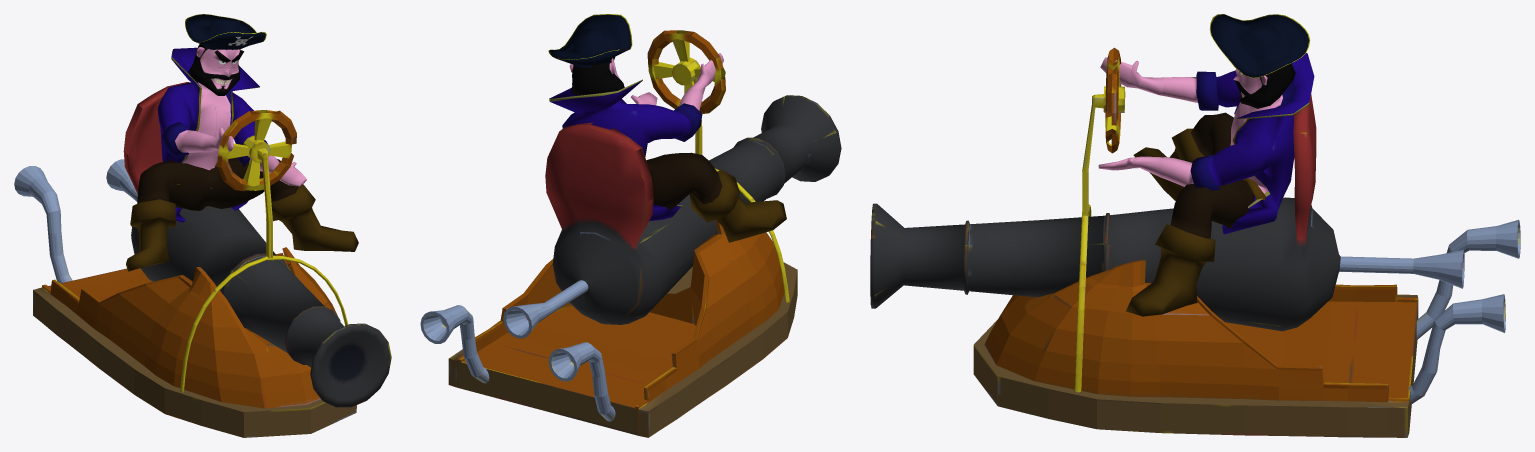
File: pirataGiroDER_000357.obj
3 renders of one model, left to right at view 1: azimuth 30°, elevation 25°; view 2: azimuth 150°, elevation 25°; view 3: azimuth 270°, elevation 25°, orthographic. The views are drawn at different scales.
Visible parts, largest first — view 1: carro_pirata, Pirata_PirataH; view 2: carro_pirata, Pirata_PirataH; view 3: carro_pirata, Pirata_PirataH.
Part boxes in pixels (box(x1,y1,x2,y2)): carro_pirata: box(14, 82, 391, 437); Pirata_PirataH: box(126, 14, 358, 271); carro_pirata: box(420, 30, 841, 437); Pirata_PirataH: box(548, 14, 786, 242); carro_pirata: box(870, 47, 1520, 437); Pirata_PirataH: box(1098, 14, 1314, 316).
Size of the model in its own units: 5.68 by 7.65 by 12.1.
